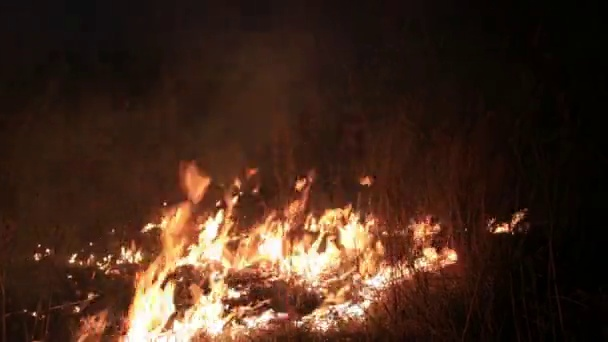fire: (124, 171, 383, 342), (411, 219, 456, 268), (494, 222, 508, 232)
